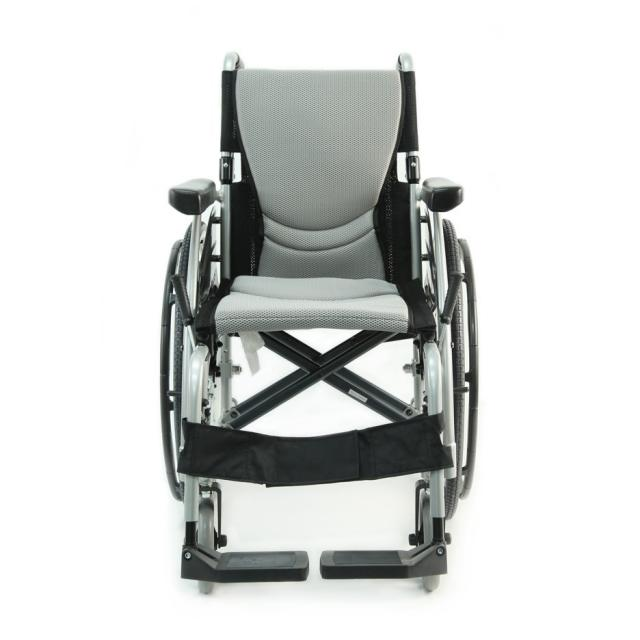wheelchair: (143, 41, 478, 609)
